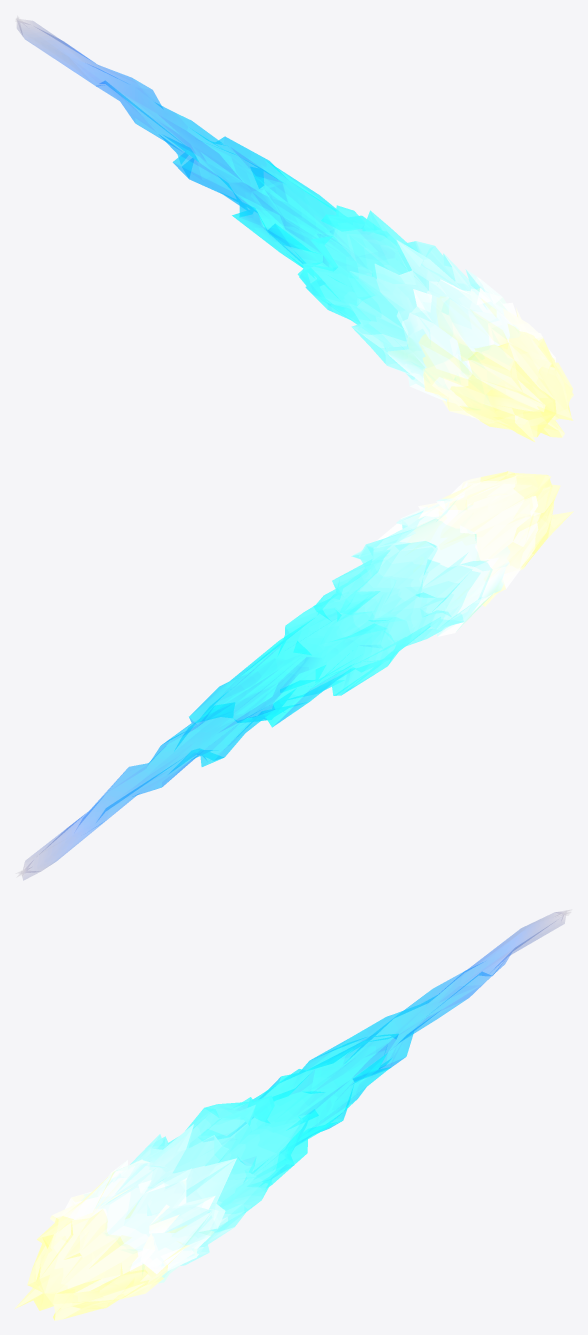
File: missile.glb
The picture shows the model from 3 angles, top to bottom: view 1: azimuth 30°, elevation 25°; view 2: azimuth 150°, elevation 25°; view 3: azimuth 330°, elevation 25°; orthographic projection. The views are drawn at different scales.
Visible parts, largest first — view 1: Sans Gravitas; view 2: Sans Gravitas; view 3: Sans Gravitas.
Boxes of the visible parts, left/top/right/bottom form: Sans Gravitas: left=17, top=19, right=573, bottom=442; Sans Gravitas: left=21, top=471, right=573, bottom=879; Sans Gravitas: left=14, top=912, right=566, bottom=1320.
Bounding box in the file's own units: 0.2639 × 0.2568 × 2.17.
1 material, 1 textured.
